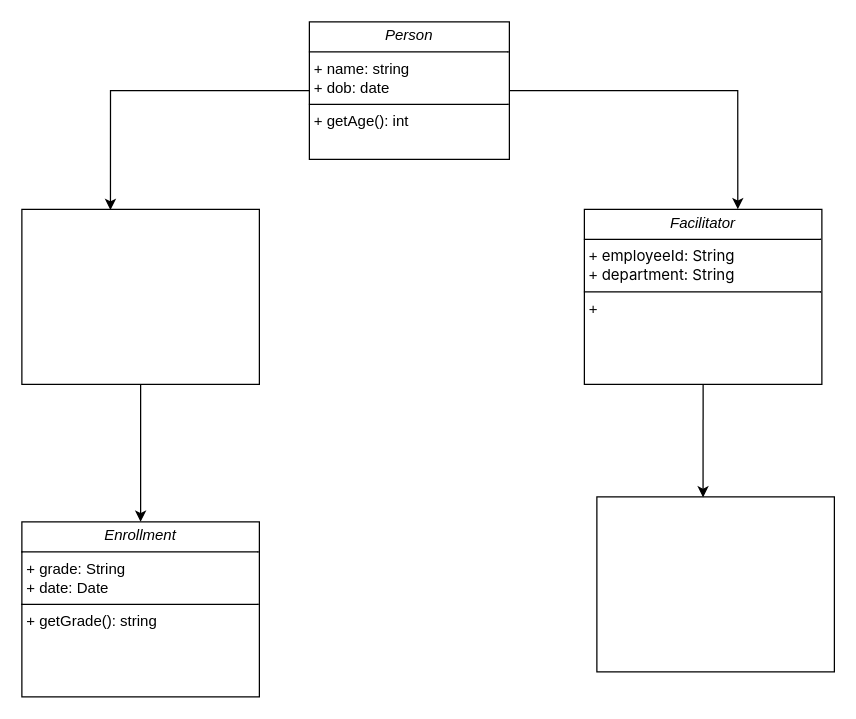
Some shapes in this 856 by 719 pixel diagram are drawn without their labels. The centre of each missing label's shape, as x and y in pixels:
"Course + courseId: Int + credits: int + getInfo(): String" belongs at point 715,584.
"Student + StudentId: string + gpa: float + getGPA(c: Course) + getGPA: float" belongs at point 140,296.
